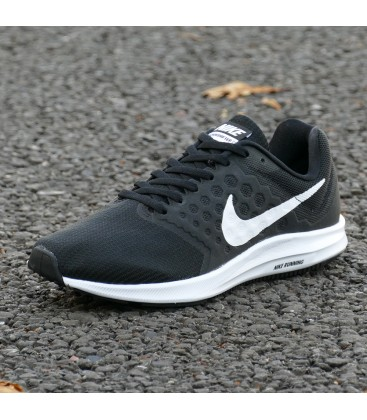nike: (220, 176, 330, 248)
